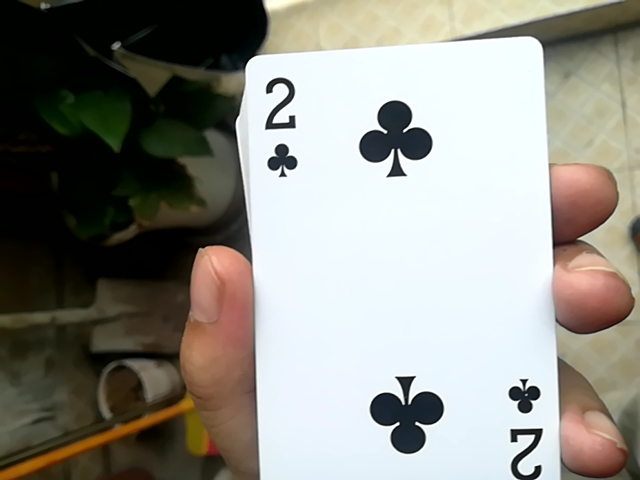mh 2: (222, 32, 549, 480)
